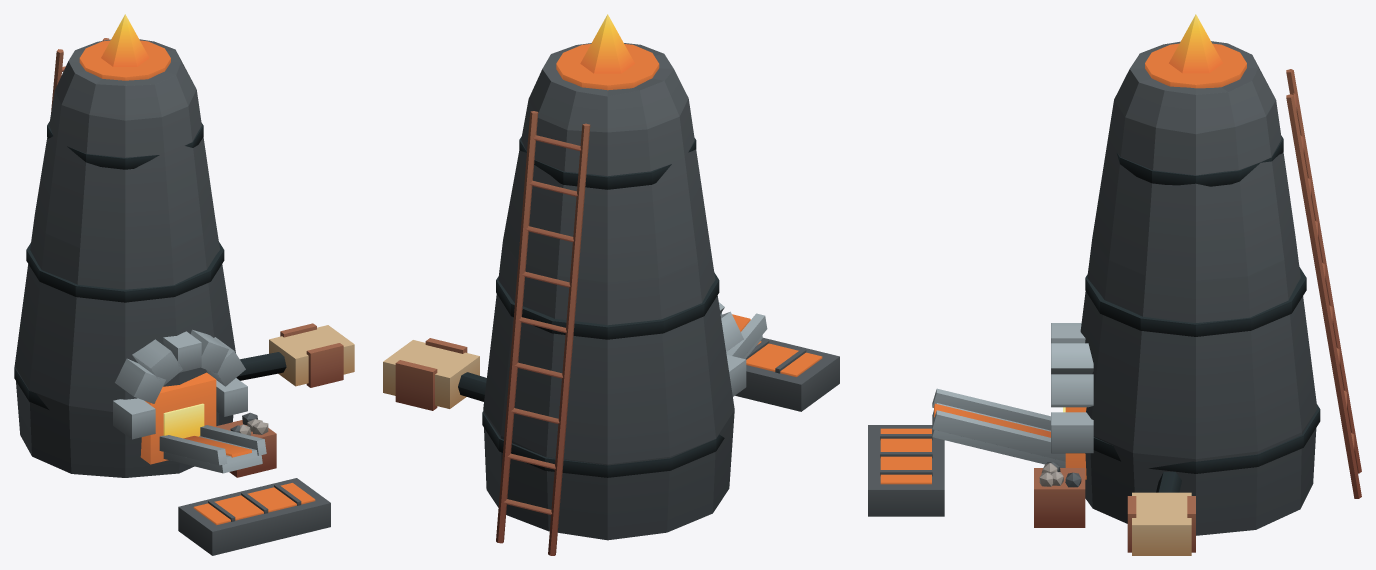
File: smelter.glb
The picture shows the model from 3 angles, left to right: view 1: azimuth 30°, elevation 25°; view 2: azimuth 150°, elevation 25°; view 3: azimuth 270°, elevation 25°; orthographic projection. The views are drawn at different scales.
Visible parts, largest first — view 1: smelter; view 2: smelter; view 3: smelter.
Boxes of the visible parts, bbox=[...] form: smelter: bbox=[14, 14, 354, 555]; smelter: bbox=[383, 14, 839, 555]; smelter: bbox=[868, 14, 1361, 555].
Bounding box in the file's own units: 4.51 × 6.11 × 5.8.
Materials: 6 (6 with a texture image).
